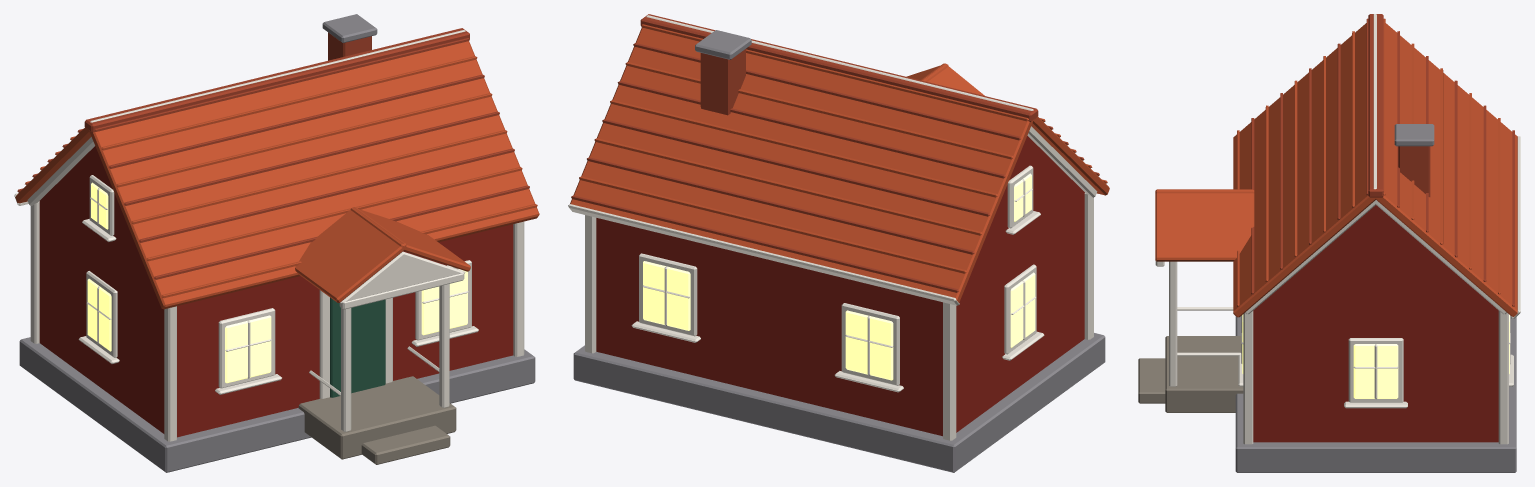
Rendered from rodstuga.glb.
The picture shows the model from 3 angles, left to right: view 1: azimuth 30°, elevation 25°; view 2: azimuth 150°, elevation 25°; view 3: azimuth 270°, elevation 25°; orthographic projection. The views are drawn at different scales.
Parts seen in each view (by area): view 1: rodstuga; view 2: rodstuga; view 3: rodstuga.
Boxes of the visible parts, x1,y1,x2,y2 form: rodstuga: (14,14,539,472); rodstuga: (568,14,1109,472); rodstuga: (1138,14,1520,472).
Bounding box in the file's own units: 6.55 × 5.16 × 5.99.
